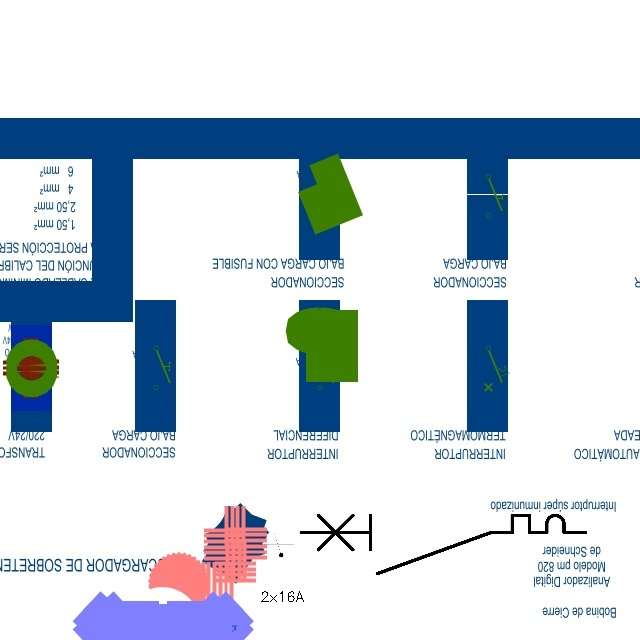interruptor_termomagnetico: (293, 508, 592, 581)
